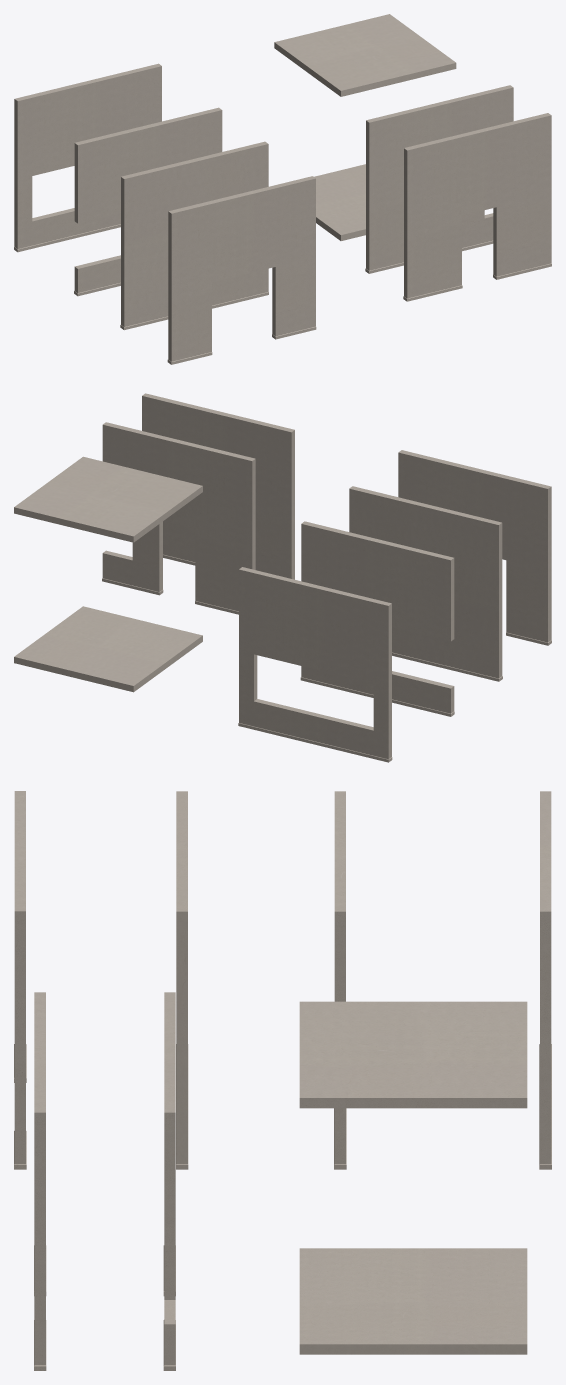
Rendered from Wall_Ceiling_Floor_Module_Laid_Out.glb.
The picture shows the model from 3 angles, top to bottom: view 1: azimuth 30°, elevation 25°; view 2: azimuth 150°, elevation 25°; view 3: azimuth 270°, elevation 25°; orthographic projection. The views are drawn at different scales.
Visible parts, largest first — view 1: door_module_02_wall_01_0, single_door_module_03_wall_01_0, wall_module_01_wall_01_0, wall_module_04_wall_01_0, door_module_03_wall_01_0, wall_module_03_wall_01_0, pCube15.001_wall_02_0, pCube15_lambert1_0, door_module_02_wall_02_0; view 2: wall_module_04_wall_01_0, door_module_03_wall_01_0, wall_module_01_wall_01_0, wall_module_03_wall_01_0, single_door_module_03_wall_01_0, door_module_02_wall_01_0, pCube15_lambert1_0, pCube15.001_wall_02_0, wall_module_04_wall_02_0, wall_module_03_wall_02_0; view 3: pCube15.001_wall_02_0, pCube15_lambert1_0, door_module_03_wall_01_0, wall_module_01_wall_01_0, door_module_02_wall_01_0, wall_module_04_wall_01_0, single_door_module_03_wall_01_0, wall_module_03_wall_01_0.
Part boxes in pixels (x1,y1,x2,y2): door_module_02_wall_01_0: [404, 113, 551, 298]; single_door_module_03_wall_01_0: [168, 176, 315, 361]; wall_module_01_wall_01_0: [121, 141, 268, 326]; wall_module_04_wall_01_0: [14, 63, 161, 248]; door_module_03_wall_01_0: [366, 85, 513, 270]; wall_module_03_wall_01_0: [74, 107, 222, 292]; pCube15.001_wall_02_0: [274, 14, 456, 96]; pCube15_lambert1_0: [314, 164, 365, 240]; door_module_02_wall_02_0: [403, 263, 551, 301]; wall_module_04_wall_01_0: [239, 567, 391, 759]; door_module_03_wall_01_0: [102, 422, 255, 611]; wall_module_01_wall_01_0: [349, 486, 502, 678]; wall_module_03_wall_01_0: [301, 521, 454, 713]; single_door_module_03_wall_01_0: [398, 450, 551, 642]; door_module_02_wall_01_0: [142, 393, 294, 579]; pCube15_lambert1_0: [14, 606, 202, 692]; pCube15.001_wall_02_0: [14, 456, 202, 542]; wall_module_04_wall_02_0: [238, 723, 392, 762]; wall_module_03_wall_02_0: [300, 677, 454, 716]; pCube15.001_wall_02_0: [299, 1001, 527, 1108]; pCube15_lambert1_0: [299, 1248, 527, 1354]; door_module_03_wall_01_0: [164, 992, 175, 1365]; wall_module_01_wall_01_0: [176, 791, 187, 1164]; door_module_02_wall_01_0: [34, 992, 45, 1365]; wall_module_04_wall_01_0: [540, 791, 551, 1164]; single_door_module_03_wall_01_0: [14, 791, 25, 1164]; wall_module_03_wall_01_0: [334, 791, 345, 1164].
Size of the model in its own units: 13.38 by 5 by 9.45.
Materials: 2 (2 with a texture image).
